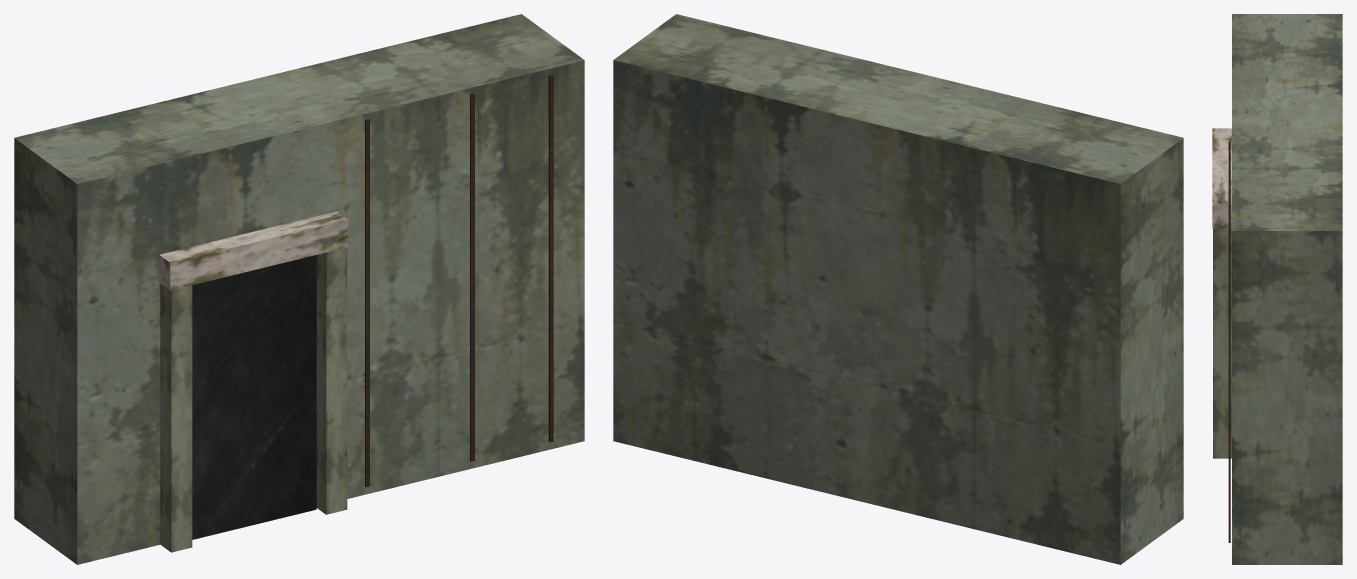
File: Utility_Bunker_Bay.glb
The picture shows the model from 3 angles, left to right: view 1: azimuth 30°, elevation 25°; view 2: azimuth 150°, elevation 25°; view 3: azimuth 270°, elevation 25°; orthographic projection. The views are drawn at different scales.
Visible parts, largest first — view 1: Utility_Bunker_Bay; view 2: Utility_Bunker_Bay; view 3: Utility_Bunker_Bay.
Part boxes in pixels (<box>): Utility_Bunker_Bay: <box>14,14,584,564</box>; Utility_Bunker_Bay: <box>613,14,1183,564</box>; Utility_Bunker_Bay: <box>1212,14,1342,564</box>.
Size of the model in its own units: 5.8 by 4.16 by 1.47.
1 material, 1 textured.
